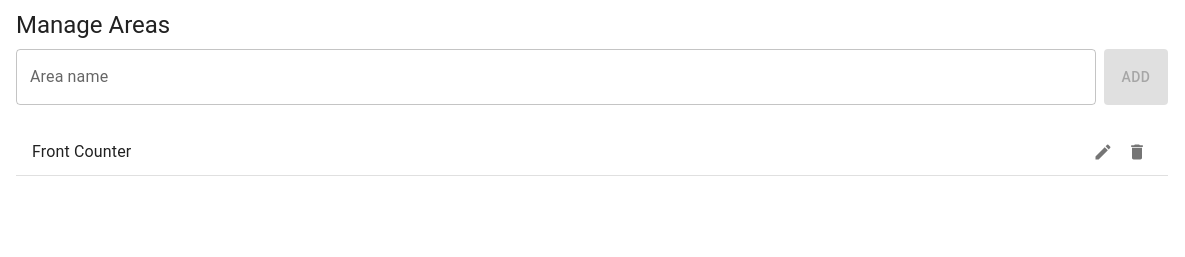
Test: ManageAreasScreen deletion safeguards › updates an area name and shows feedback
The width and height of the screenshot is (1185, 257).
Click the button named "edit front counter" at (1103, 152), box left=1088, top=137, right=1118, bottom=167
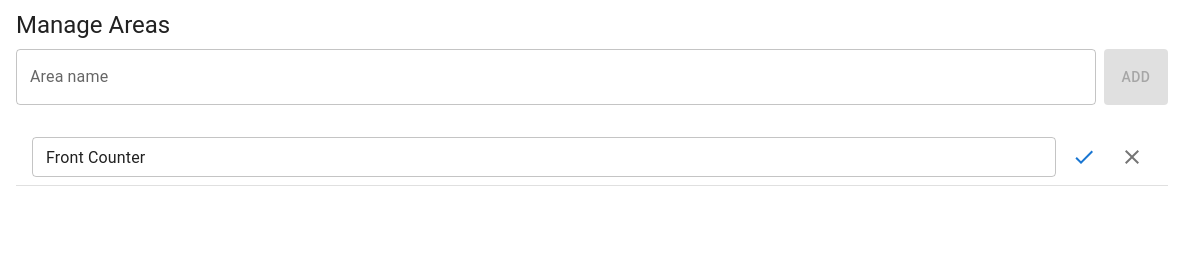
Replace the text in the field showing "front counter" with "Updated Front" at (544, 157), box left=32, top=137, right=1056, bottom=177
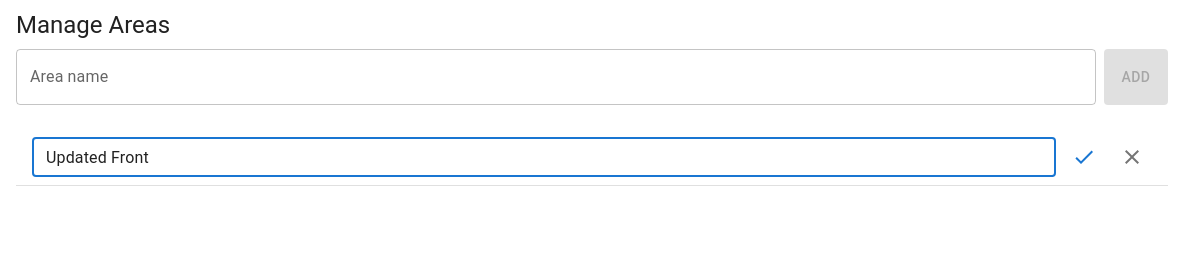
Click the button named "save area" at (1084, 157), box left=1064, top=137, right=1104, bottom=177
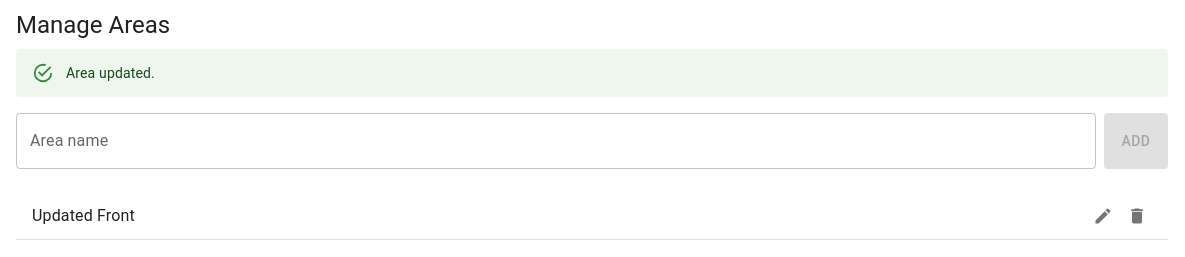
Now the text "Area updated." is shown, box left=66, top=65, right=155, bottom=81
